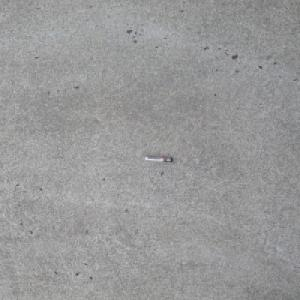Battery: (144, 156, 173, 162)
